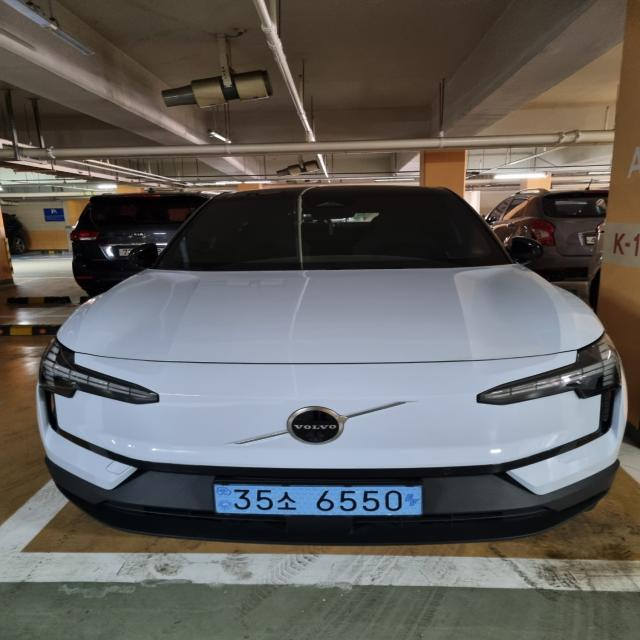car: (203, 477, 446, 529)
carev: (209, 482, 233, 522), (403, 486, 429, 520)
